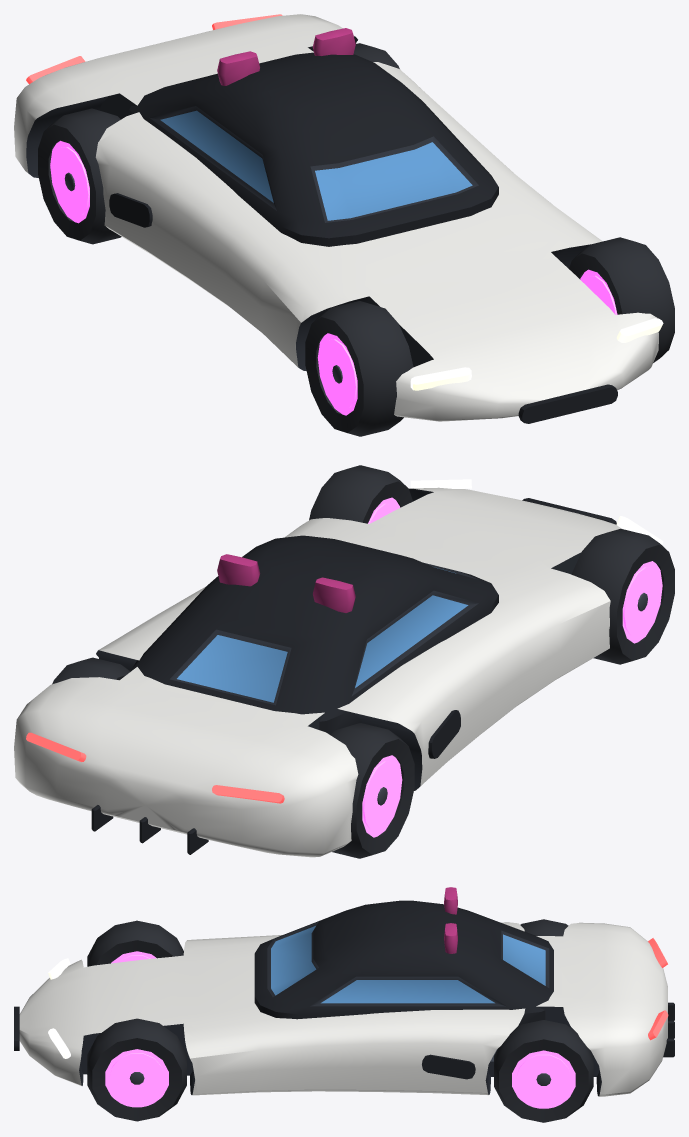
The model's file is futurista_hiper_branco.glb.
3 renders of one model, top to bottom at view 1: azimuth 30°, elevation 25°; view 2: azimuth 150°, elevation 25°; view 3: azimuth 270°, elevation 25°, orthographic. The views are drawn at different scales.
Parts seen in each view (by area): view 1: futurista_hiper_branco, capota, roda_dianteira_esq, roda_traseira_esq, roda_dianteira_dir; view 2: futurista_hiper_branco, capota, roda_dianteira_esq, roda_traseira_esq, roda_dianteira_dir, roda_traseira_dir; view 3: futurista_hiper_branco, capota, roda_dianteira_dir, roda_traseira_dir, roda_dianteira_esq, roda_traseira_esq.
Part boxes in pixels (x1=…): futurista_hiper_branco: x1=14, y1=14, x2=663, y2=423; capota: x1=129, y1=52, x2=498, y2=246; roda_dianteira_esq: x1=305, y1=301, x2=413, y2=436; roda_traseira_esq: x1=38, y1=108, x2=121, y2=244; roda_dianteira_dir: x1=569, y1=237, x2=674, y2=362; futurista_hiper_branco: x1=14, y1=479, x2=663, y2=857; capota: x1=129, y1=535, x2=498, y2=734; roda_dianteira_esq: x1=571, y1=528, x2=674, y2=664; roda_traseira_esq: x1=330, y1=723, x2=414, y2=858; roda_dianteira_dir: x1=309, y1=465, x2=412, y2=523; roda_traseira_dir: x1=52, y1=657, x2=129, y2=684; futurista_hiper_branco: x1=14, y1=887, x2=674, y2=1096; capota: x1=254, y1=900, x2=553, y2=1028; roda_dianteira_dir: x1=87, y1=1018, x2=186, y2=1121; roda_traseira_dir: x1=494, y1=1020, x2=593, y2=1122; roda_dianteira_esq: x1=87, y1=920, x2=183, y2=966; roda_traseira_esq: x1=520, y1=919, x2=568, y2=936.
Size of the model in its own units: 2.05 by 1.22 by 4.66.
5 materials, 1 textured.
